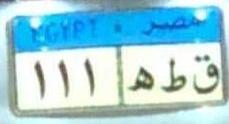1: (56, 58, 75, 100), (81, 55, 99, 98), (35, 57, 48, 99)
Taa: (159, 56, 187, 96)
haa: (126, 64, 155, 96)
qaaf: (188, 50, 221, 94)
